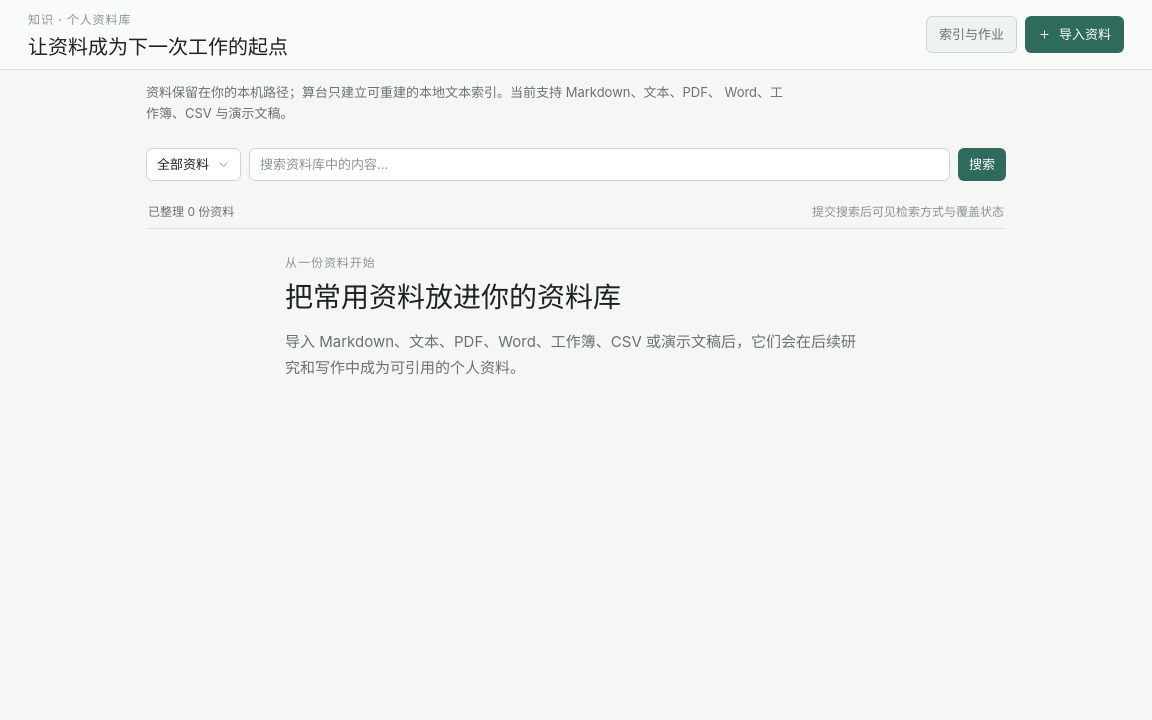
KnowledgePage 索引管理护栏（KM09） › 没有合格嵌入模型时语义开关不可用，并解释原因而不只是禁用
The image size is (1152, 720).
Click the button "索引与作业" at x=972, y=35, box [926,16,1017,53]
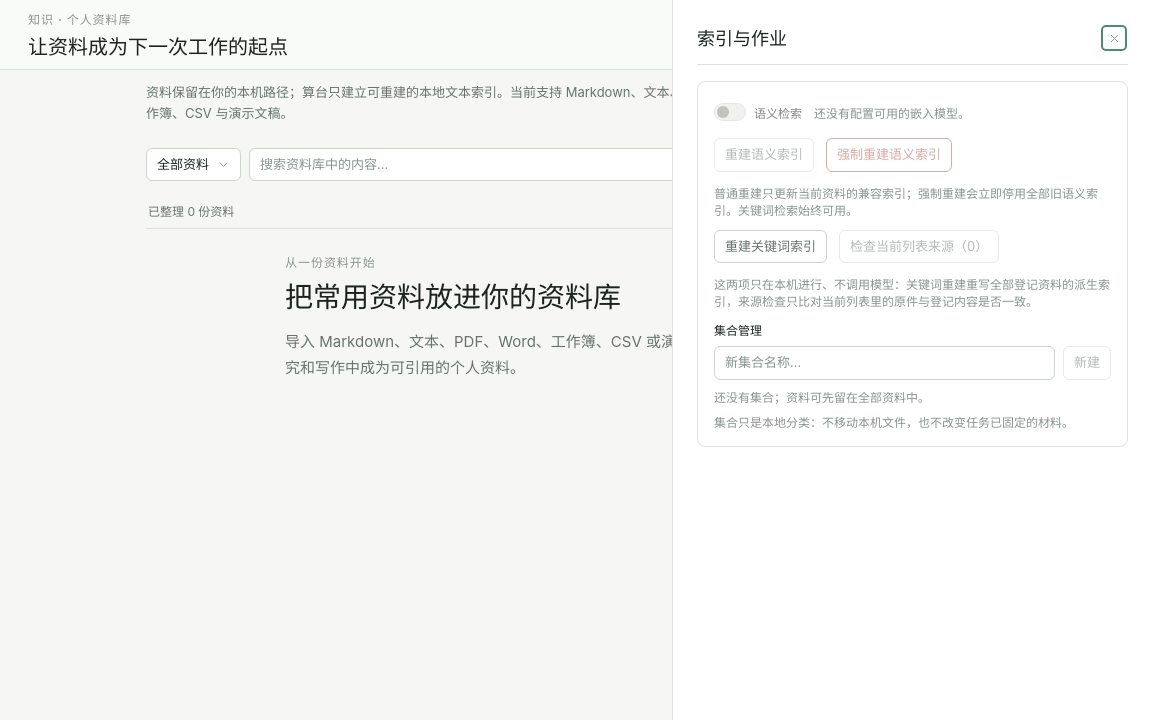
Check: the switch labelled "语义检索" is disabled, box [714,98,802,126]
Check: the text "还没有配置可用的嵌入模型。" is shown, box [814,104,970,120]
